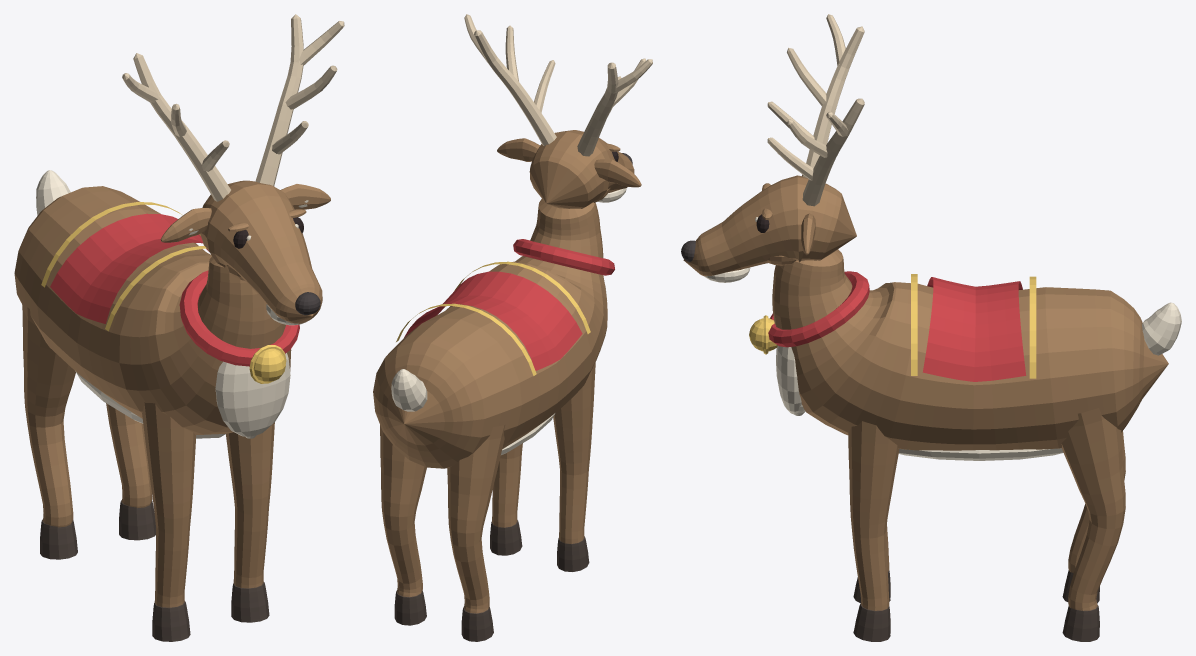
File: Reno.glb
3 views of the same model, side by side, from view 1: azimuth 30°, elevation 25°; view 2: azimuth 150°, elevation 25°; view 3: azimuth 270°, elevation 25° (orthographic). The views are drawn at different scales.
Visible parts, largest first — view 1: Reno_Cuerpo, Reno_Cabeza, Reno_OrejaL, Reno_OrejaR, Reno_Cola; view 2: Reno_Cuerpo, Reno_Cabeza, Reno_Cola, Reno_OrejaL, Reno_OrejaR; view 3: Reno_Cuerpo, Reno_Cabeza, Reno_Cola.
Part boxes in pixels (x1,y1,x2,y2): Reno_Cuerpo: (14, 186, 299, 641); Reno_Cabeza: (122, 14, 344, 325); Reno_OrejaL: (160, 208, 211, 242); Reno_OrejaR: (280, 184, 330, 209); Reno_Cola: (36, 170, 70, 215); Reno_Cuerpo: (373, 199, 614, 641); Reno_Cabeza: (464, 14, 652, 208); Reno_Cola: (391, 369, 427, 411); Reno_OrejaL: (594, 159, 641, 187); Reno_OrejaR: (497, 138, 539, 161); Reno_Cuerpo: (749, 249, 1168, 641); Reno_Cabeza: (681, 14, 864, 282); Reno_Cola: (1142, 302, 1181, 355).
Bounding box in the file's own units: 0.8406 × 2.17 × 1.77.
